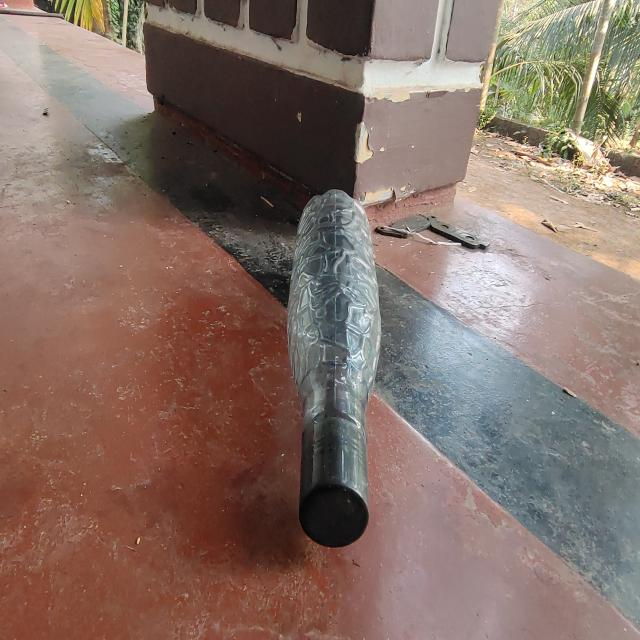plastic: (288, 184, 380, 546)
